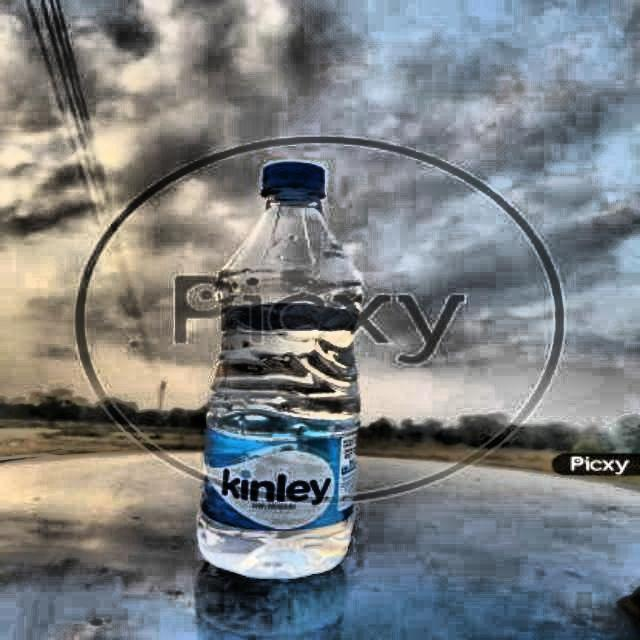plastic bottle: (197, 162, 363, 580)
